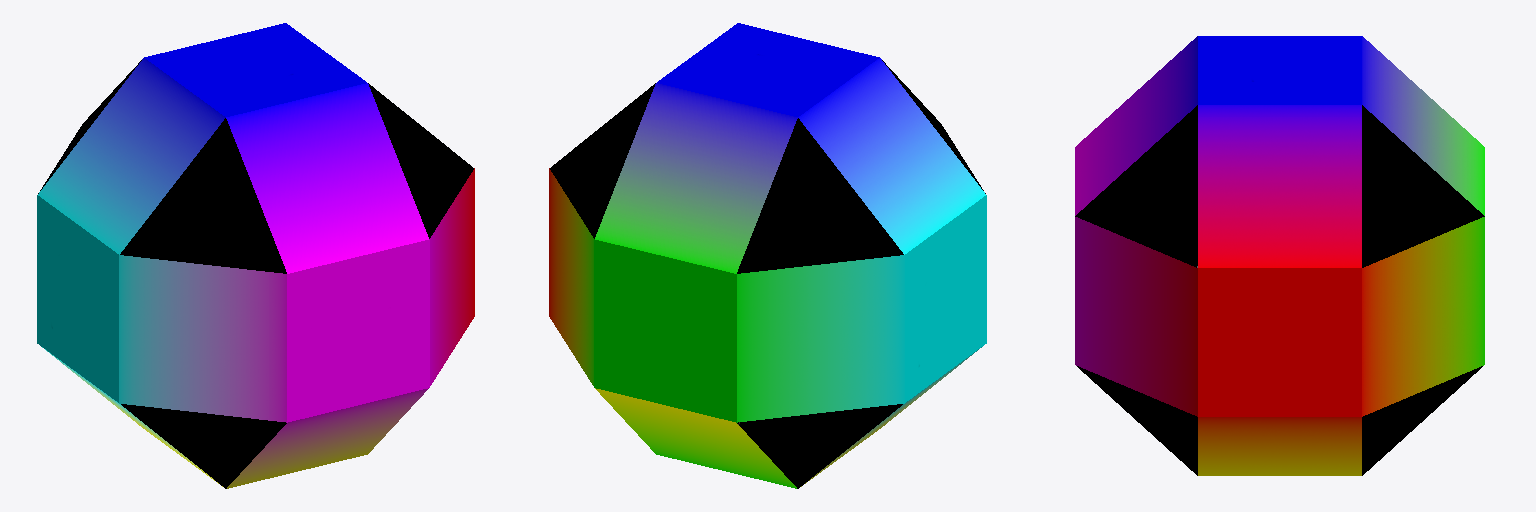
3 views of the same model, side by side, from view 1: azimuth 30°, elevation 25°; view 2: azimuth 150°, elevation 25°; view 3: azimuth 270°, elevation 25° (orthographic).
Parts seen in each view (by area): view 1: Cube; view 2: Cube; view 3: Cube.
Boxes of the visible parts, x1,y1,x2,y2 form: Cube: [37, 23, 474, 488]; Cube: [549, 23, 986, 488]; Cube: [1075, 36, 1484, 475].
Size of the model in its own units: 1 by 1 by 1.
1 materials, 1 textured.